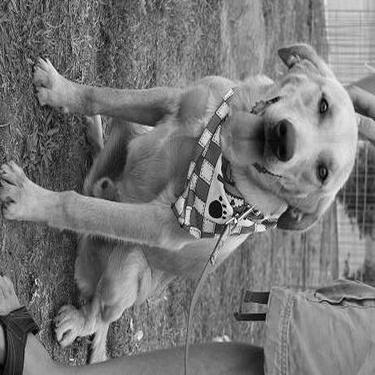dog: (1, 36, 361, 351)
